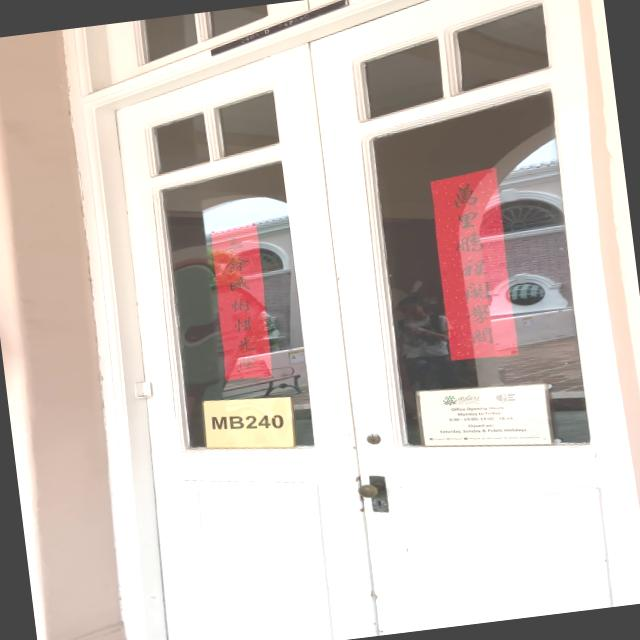room240: (200, 388, 297, 462)
